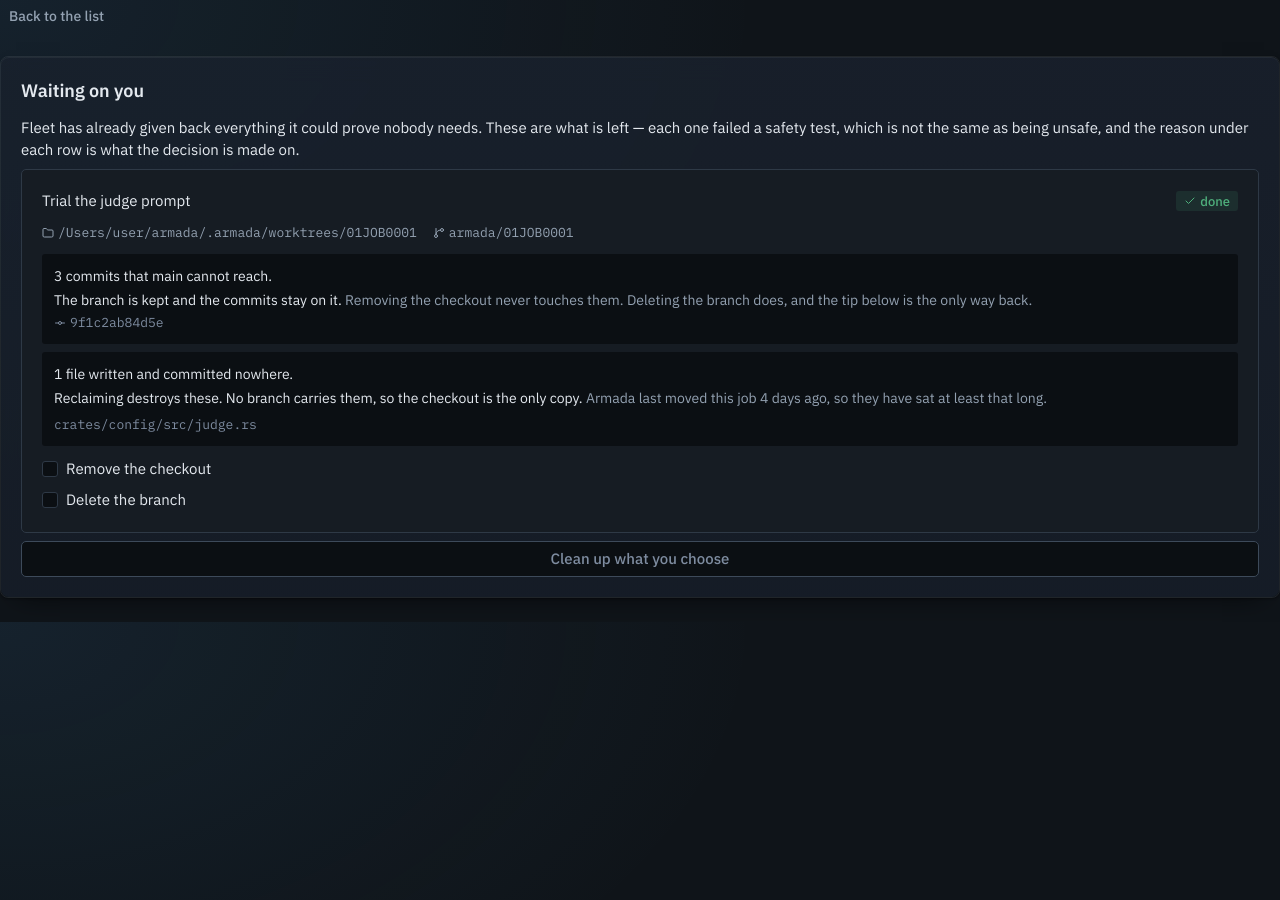
Test case: the confirmation names the files it destroys and the branch it keeps
The image size is (1280, 900).
Step 1. Click the checkbox labelled "Remove the checkout" → {"x": 127, "y": 469}, box [42,458,211,480]
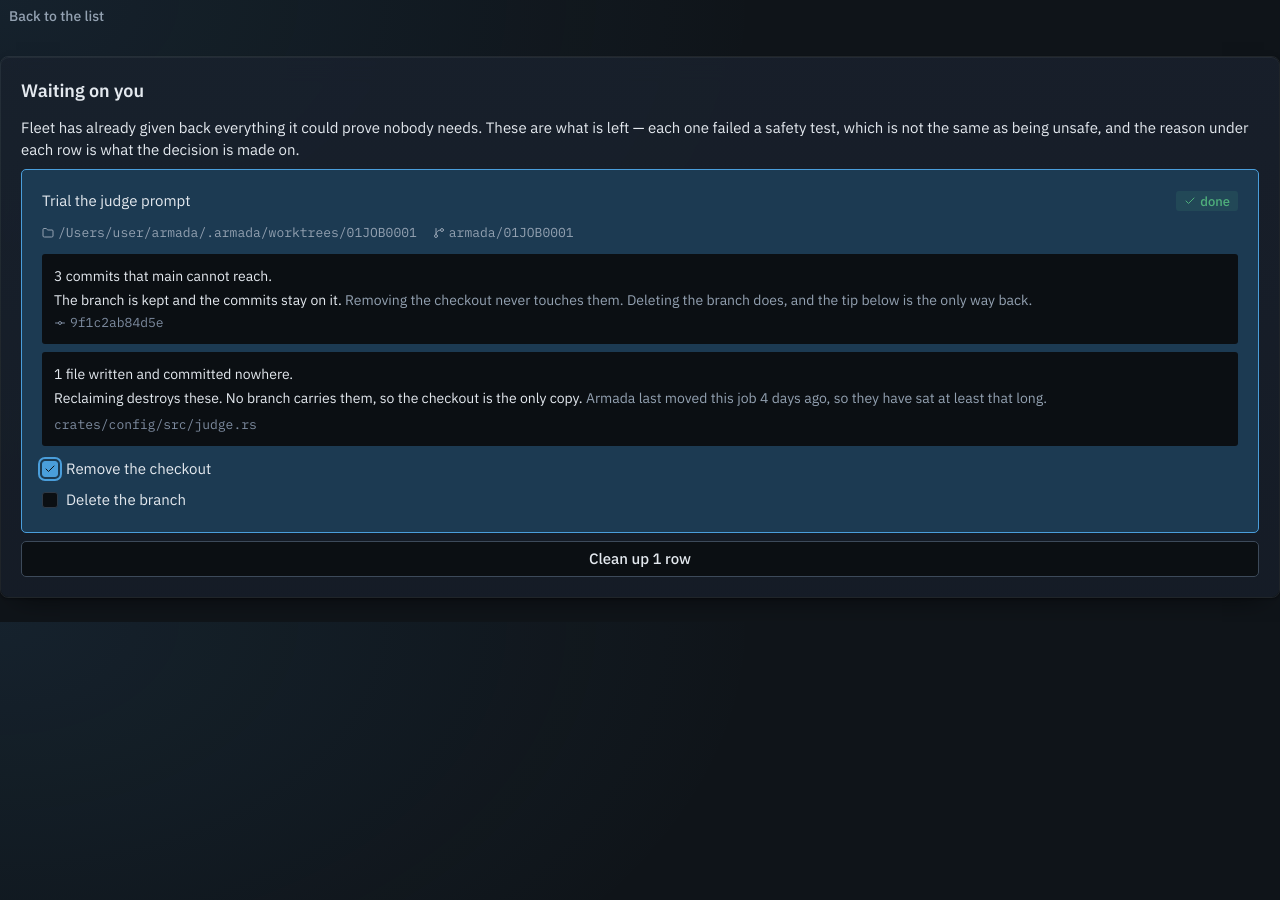
Step 2. Click the button "Clean up 1 row" → {"x": 640, "y": 559}, box [21,541,1259,577]
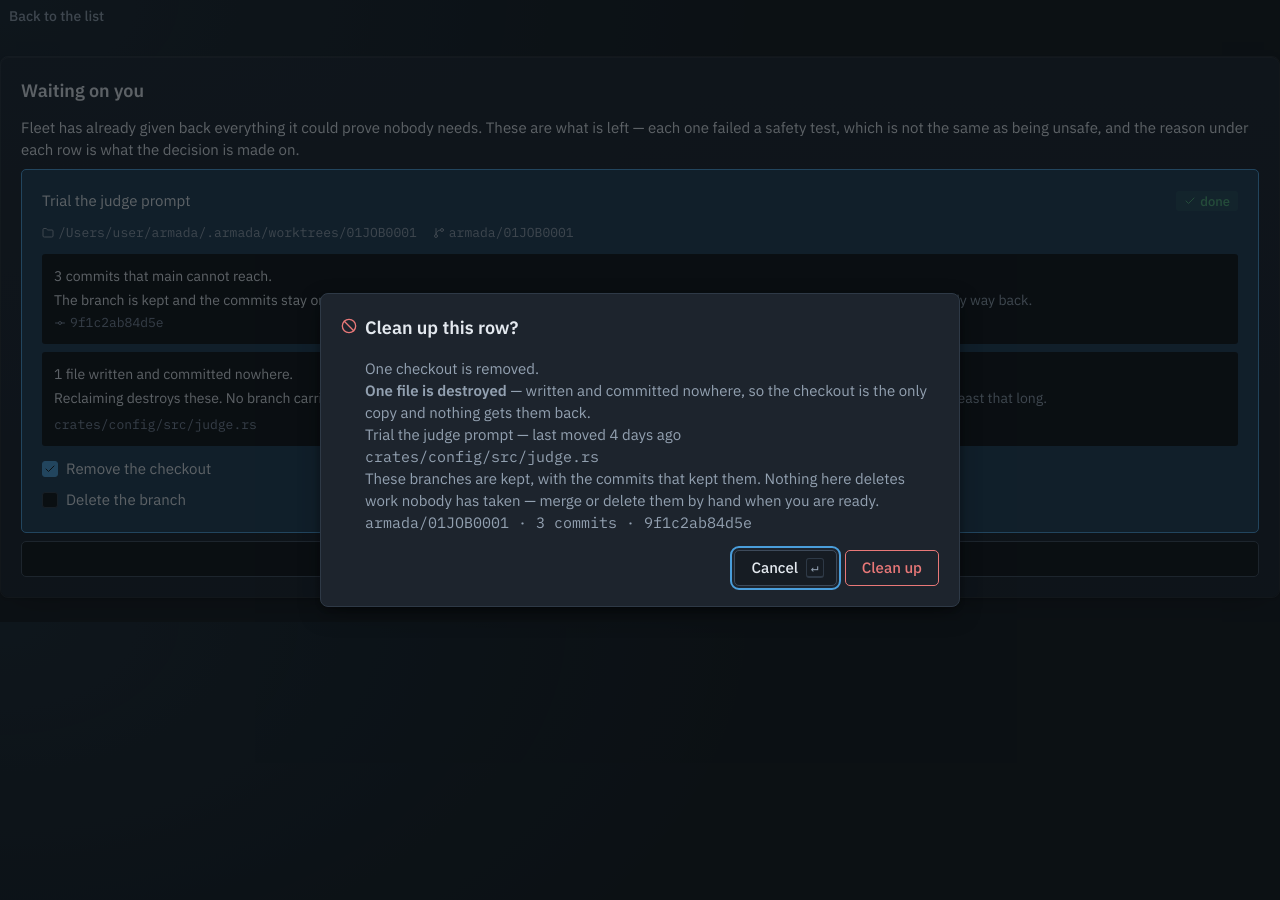
expect the dialog shows "One file is destroyed": met, box [365,381,507,400]
expect the dialog shows "crates/config/src/judge.rs": met, box [365,447,599,466]
expect the dialog shows "These branches are kept": met, box [365,469,905,510]
